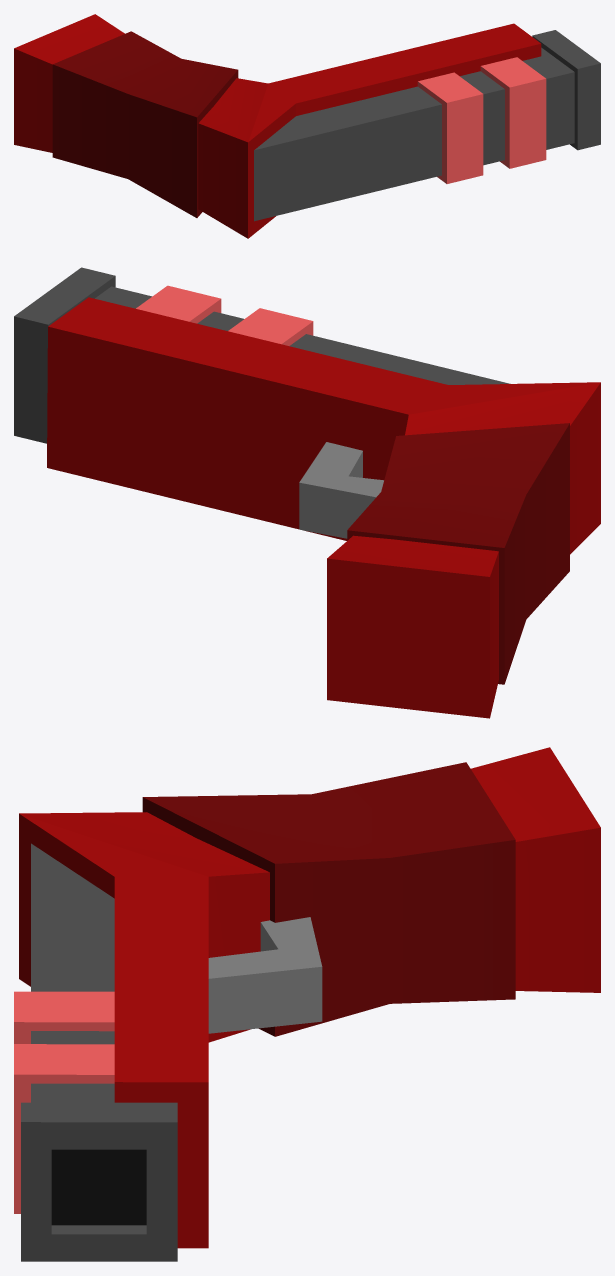
File: Gun 01.FBX
3 views of the same model, one above another, from view 1: azimuth 30°, elevation 25°; view 2: azimuth 150°, elevation 25°; view 3: azimuth 270°, elevation 25° (orthographic). The views are drawn at different scales.
Visible parts, largest first — view 1: Gun 01; view 2: Gun 01; view 3: Gun 01.
Part boxes in pixels (left/top/right/bottom): Gun 01: left=14, top=14, right=600, bottom=238; Gun 01: left=14, top=267, right=600, bottom=718; Gun 01: left=14, top=747, right=600, bottom=1261.
Bounding box in the file's own units: 32.26 × 7.19 × 22.09.
